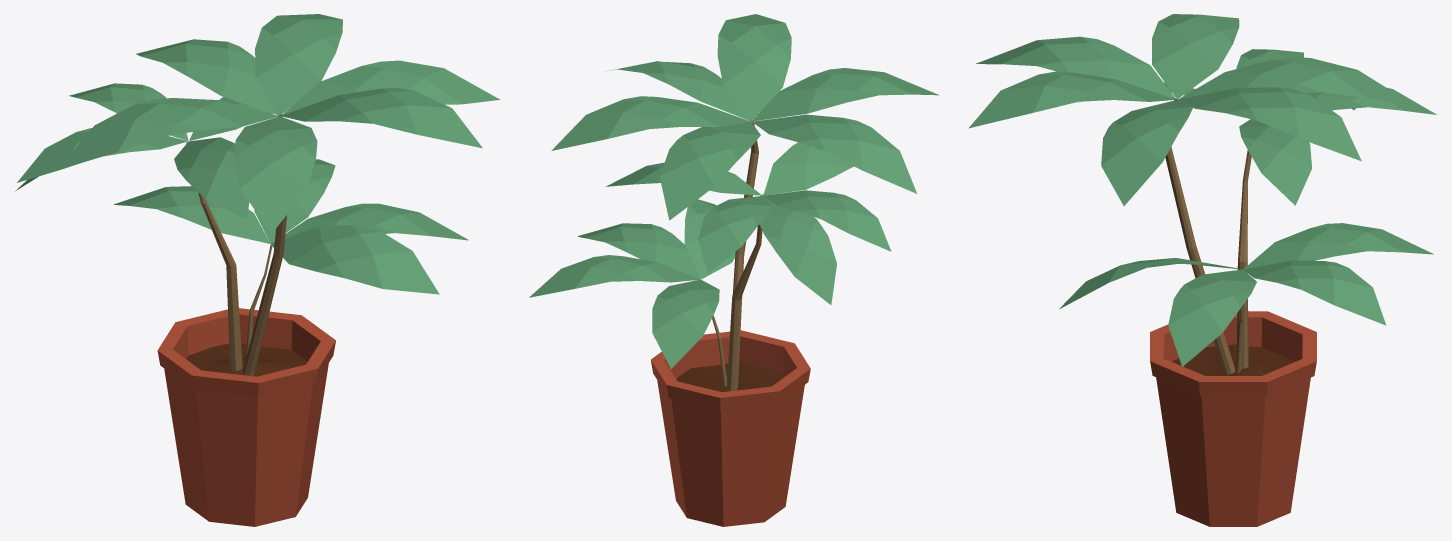
The model's file is plant.fbx.
3 views of the same model, side by side, from view 1: azimuth 30°, elevation 25°; view 2: azimuth 150°, elevation 25°; view 3: azimuth 270°, elevation 25° (orthographic). The views are drawn at different scales.
Parts seen in each view (by area): view 1: Leaf.002, Pot, Leaf.003, Leaf.004, Leaf, Wood.003, Leaf.005, Wood.001, Wood.002, Leaf.001; view 2: Leaf.002, Pot, Leaf, Leaf.003, Leaf.004, Leaf.005, Wood.003, Wood.001, Wood.002; view 3: Leaf.002, Pot, Leaf.003, Leaf.004, Leaf, Wood.003, Wood.002, Leaf.005, Wood.001, Leaf.001.
Part boxes in pixels (bbox=[...]): Leaf.002: bbox=[58, 14, 500, 233]; Pot: bbox=[157, 308, 335, 526]; Leaf.003: bbox=[114, 159, 468, 293]; Leaf.004: bbox=[58, 14, 498, 233]; Leaf: bbox=[15, 83, 293, 219]; Wood.003: bbox=[186, 344, 307, 376]; Leaf.005: bbox=[20, 84, 266, 217]; Wood.001: bbox=[186, 142, 242, 371]; Wood.002: bbox=[242, 114, 286, 375]; Leaf.001: bbox=[114, 177, 468, 294]; Leaf.002: bbox=[551, 14, 939, 220]; Pot: bbox=[651, 330, 810, 526]; Leaf: bbox=[605, 142, 891, 304]; Leaf.003: bbox=[529, 199, 735, 368]; Leaf.004: bbox=[554, 15, 935, 219]; Leaf.005: bbox=[612, 143, 890, 303]; Wood.003: bbox=[676, 361, 784, 392]; Wood.001: bbox=[726, 194, 763, 391]; Wood.002: bbox=[732, 119, 758, 386]; Leaf.002: bbox=[968, 14, 1413, 205]; Pot: bbox=[1150, 311, 1316, 526]; Leaf.003: bbox=[1059, 223, 1432, 366]; Leaf.004: bbox=[970, 14, 1409, 204]; Leaf: bbox=[1078, 49, 1436, 205]; Wood.003: bbox=[1171, 344, 1295, 375]; Wood.002: bbox=[1165, 98, 1235, 374]; Leaf.005: bbox=[1165, 50, 1435, 204]; Wood.001: bbox=[1236, 150, 1251, 368]; Leaf.001: bbox=[1060, 223, 1433, 366].
Size of the model in its own units: 514 by 545 by 516.
